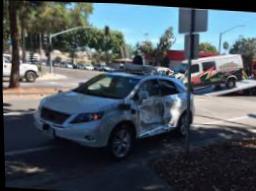Door: (132, 75, 165, 134)
